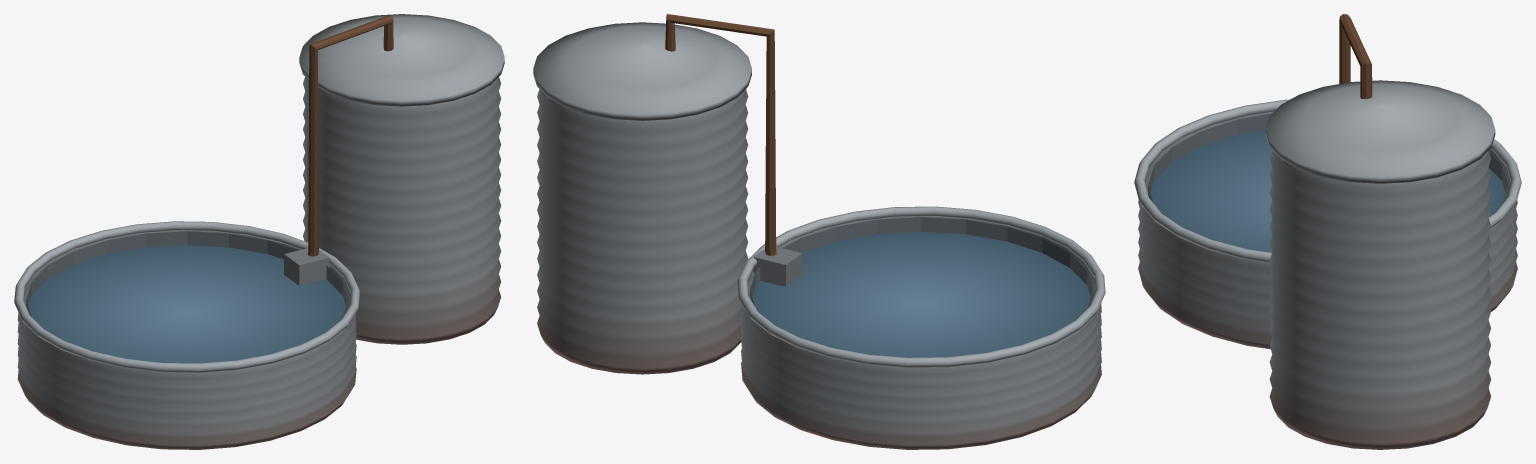
Rendered from trough.glb.
3 renders of one model, left to right at view 1: azimuth 30°, elevation 25°; view 2: azimuth 150°, elevation 25°; view 3: azimuth 270°, elevation 25°, orthographic. The views are drawn at different scales.
Visible parts, largest first — view 1: trough; view 2: trough; view 3: trough.
Part boxes in pixels (x1,y1,x2,y2): trough: (14, 14, 504, 449); trough: (533, 14, 1105, 449); trough: (1134, 14, 1521, 449).
Size of the model in its own units: 4.35 by 2.59 by 2.74.
